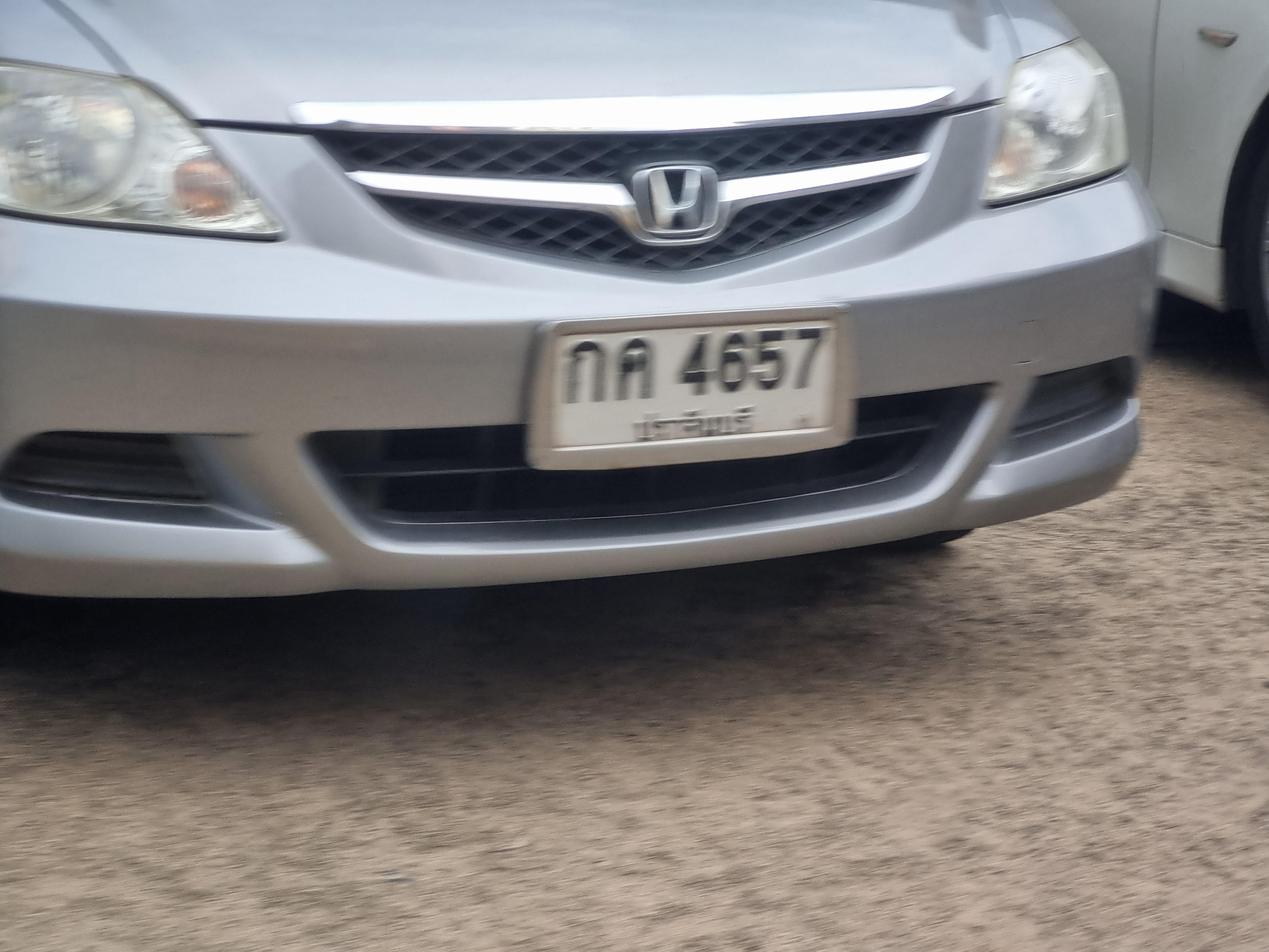license-plate: (519, 314, 856, 461)
